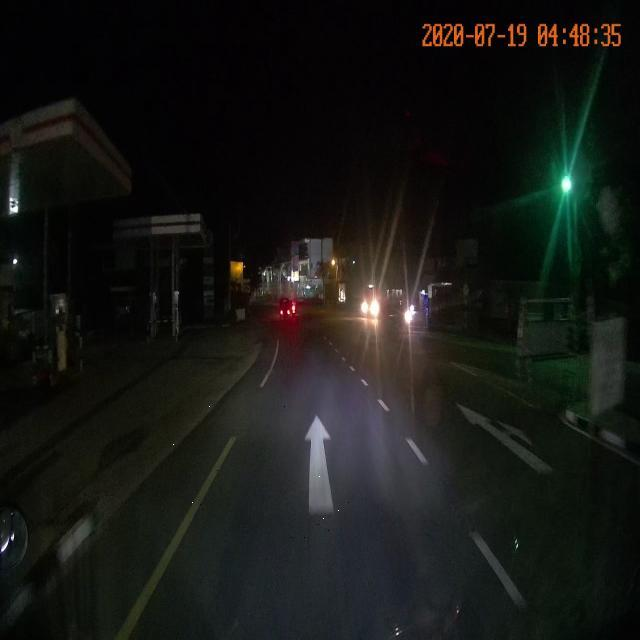forward: (162, 399, 493, 544)
forward_right: (398, 384, 639, 535)
